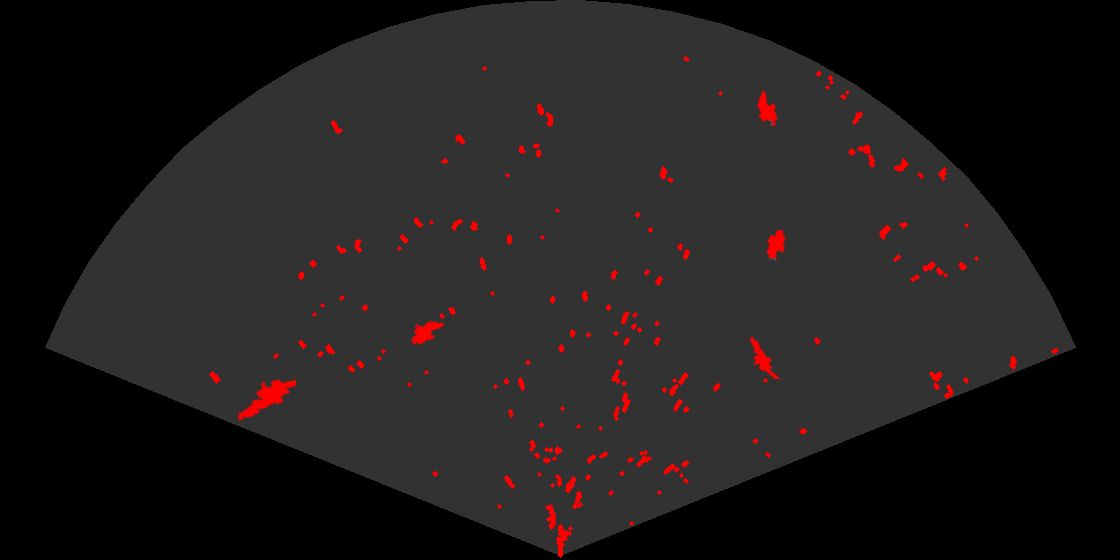AUV: (409, 320, 446, 346), (755, 89, 779, 128), (765, 227, 787, 262)
frogman: (235, 377, 296, 422), (745, 334, 781, 379)
